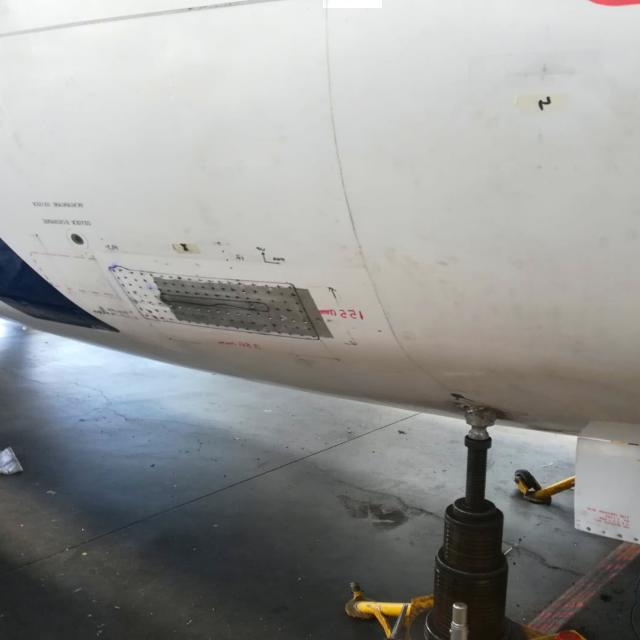crack: (324, 1, 383, 9)
